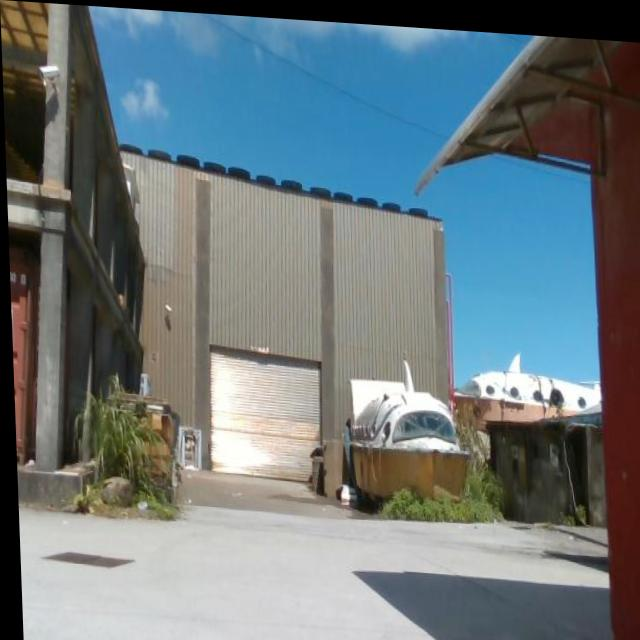pollute: (117, 364, 200, 501), (303, 433, 357, 503)
